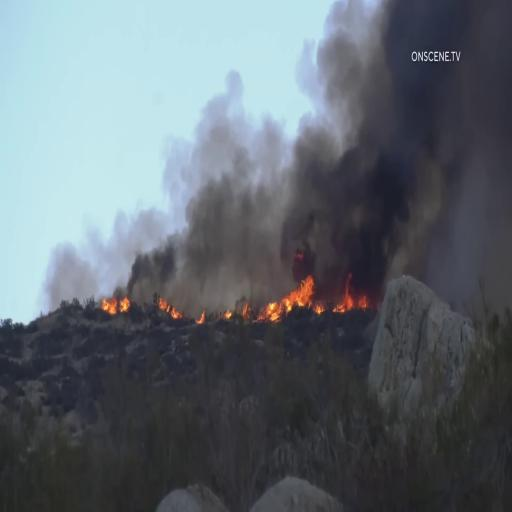fire: (265, 270, 316, 320)
smoke: (335, 4, 393, 267)
